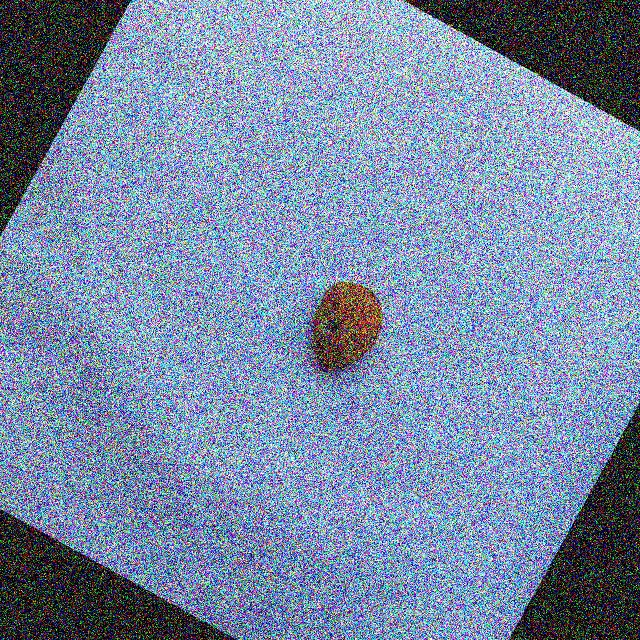grade3: (287, 265, 400, 387)
